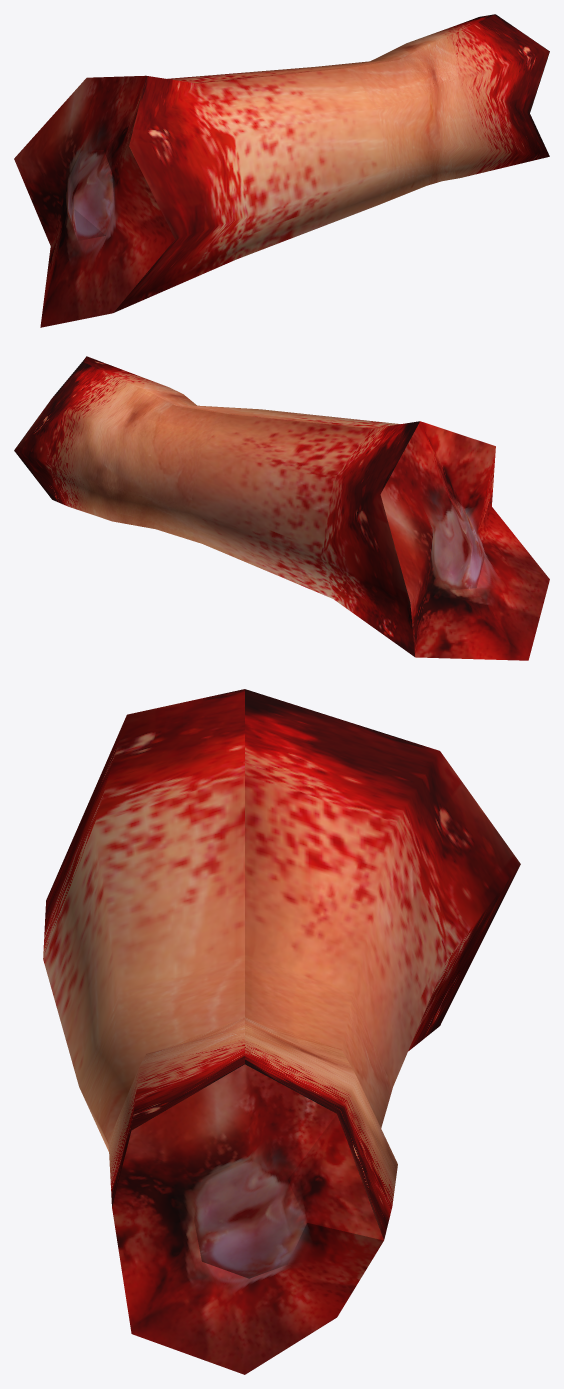
Rendered from male_lt_uparm.fbx.
The picture shows the model from 3 angles, top to bottom: view 1: azimuth 30°, elevation 25°; view 2: azimuth 150°, elevation 25°; view 3: azimuth 270°, elevation 25°; orthographic projection. The views are drawn at different scales.
Parts seen in each view (by area): view 1: lt_uparm_gib; view 2: lt_uparm_gib; view 3: lt_uparm_gib.
Boxes of the visible parts, left/top/right/bottom form: lt_uparm_gib: left=14, top=14, right=549, bottom=327; lt_uparm_gib: left=14, top=356, right=549, bottom=660; lt_uparm_gib: left=43, top=689, right=520, bottom=1374.
Size of the model in its own units: 0.4058 by 0.1756 by 0.1761.
